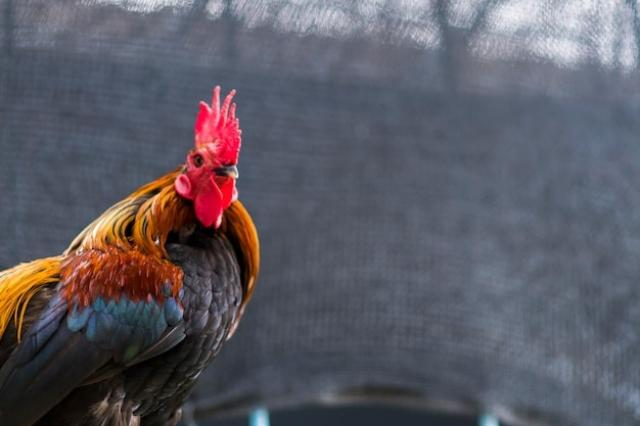Chicken: (1, 83, 262, 426)
